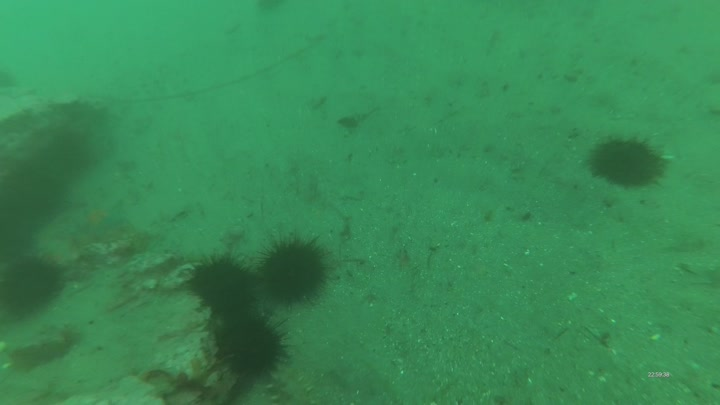echinus: (256, 232, 334, 310), (582, 129, 670, 191), (216, 309, 294, 376), (185, 253, 264, 316), (1, 255, 70, 315)
starfish: (72, 199, 128, 242)
